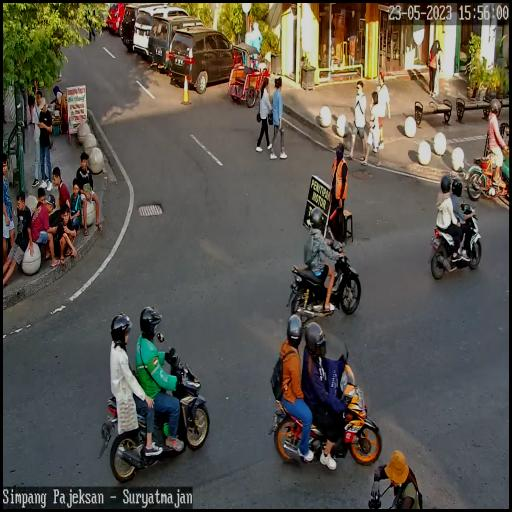mobil: (168, 26, 240, 92), (150, 12, 208, 80), (133, 5, 194, 65)
motor: (98, 346, 213, 482), (272, 354, 381, 471), (290, 236, 363, 324), (428, 203, 484, 284)
